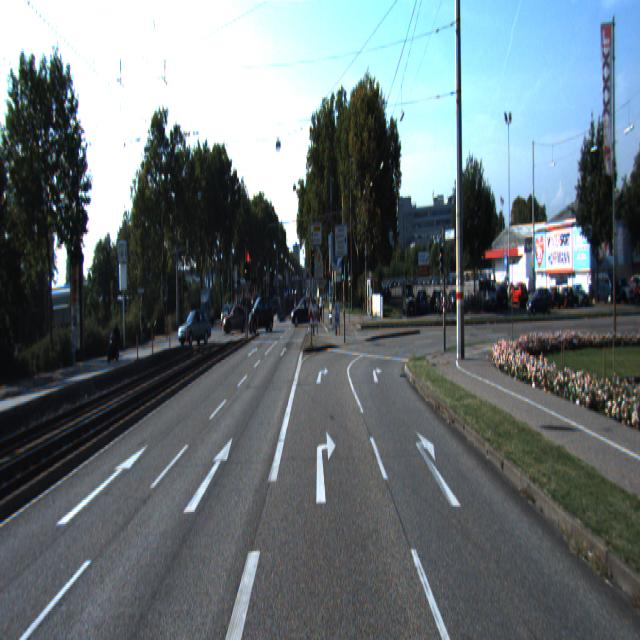Car: (178, 308, 212, 350), (247, 294, 274, 334), (222, 305, 250, 337)
DontCare: (380, 270, 638, 311), (291, 294, 323, 328)
Misc: (108, 318, 122, 365)
